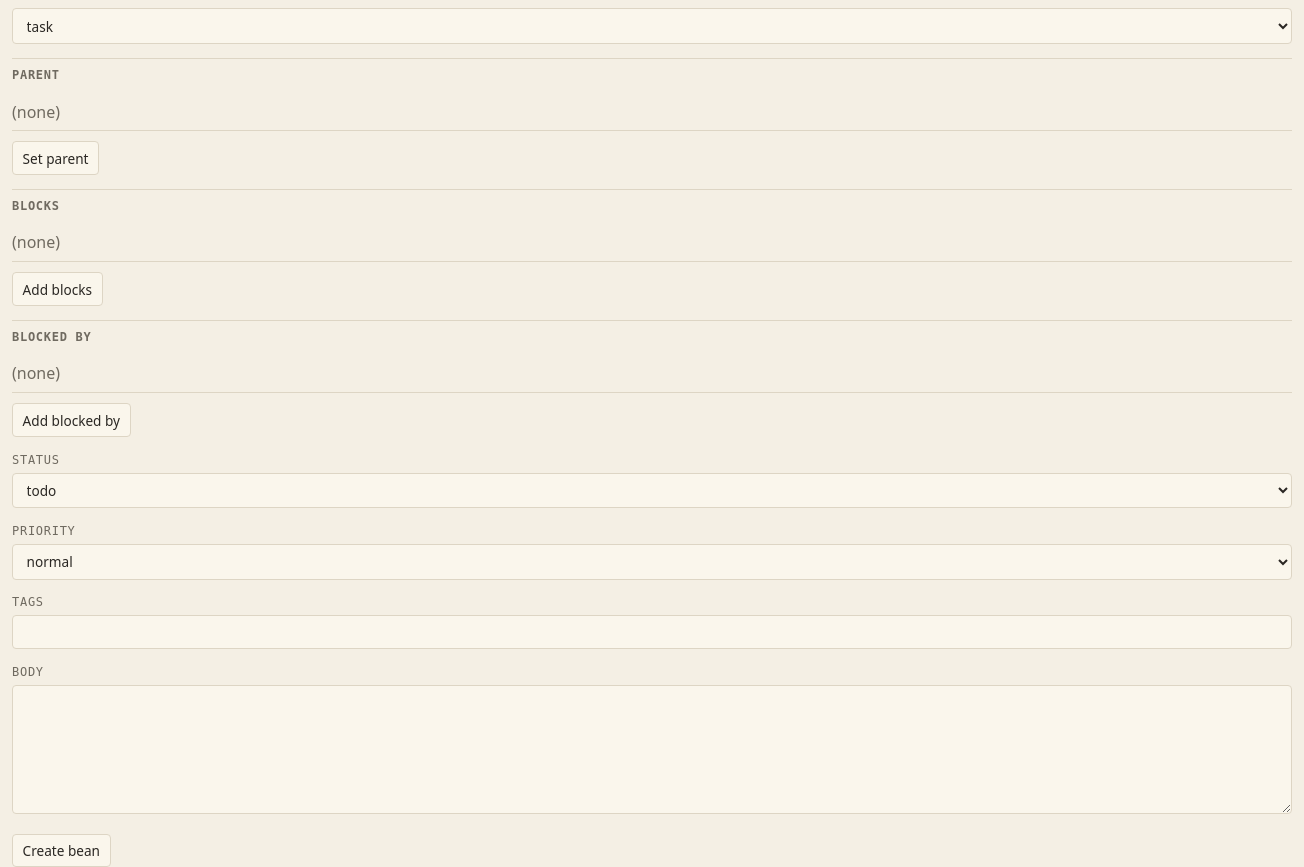
CreateBeanForm › requires a title before submitting
The image size is (1304, 867).
(page scrolled)
Click the button "Create bean" at (61, 850), box x1=12 y1=834 x2=111 y2=866
(page scrolled)
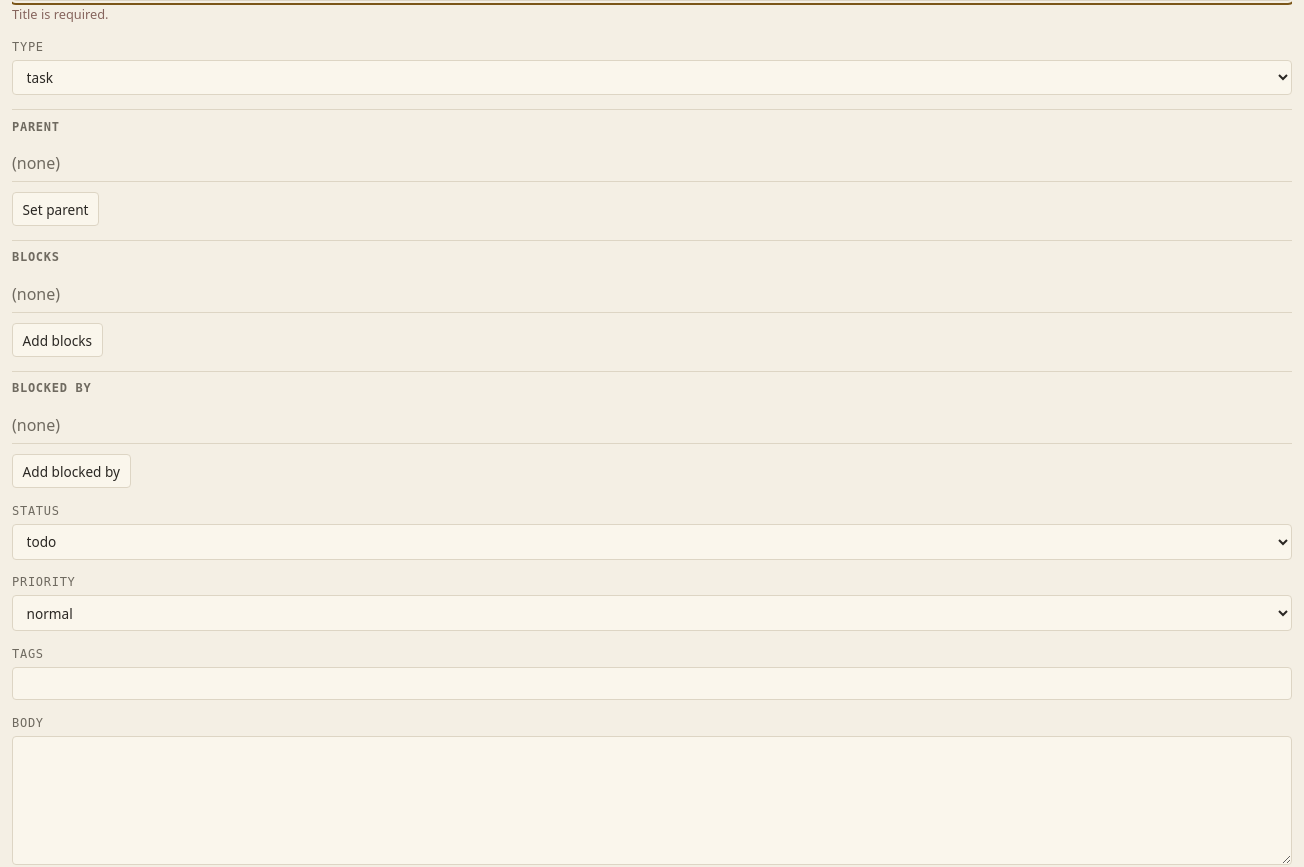
expect the text "Title is required." is shown: met, box x1=12 y1=5 x2=108 y2=23
